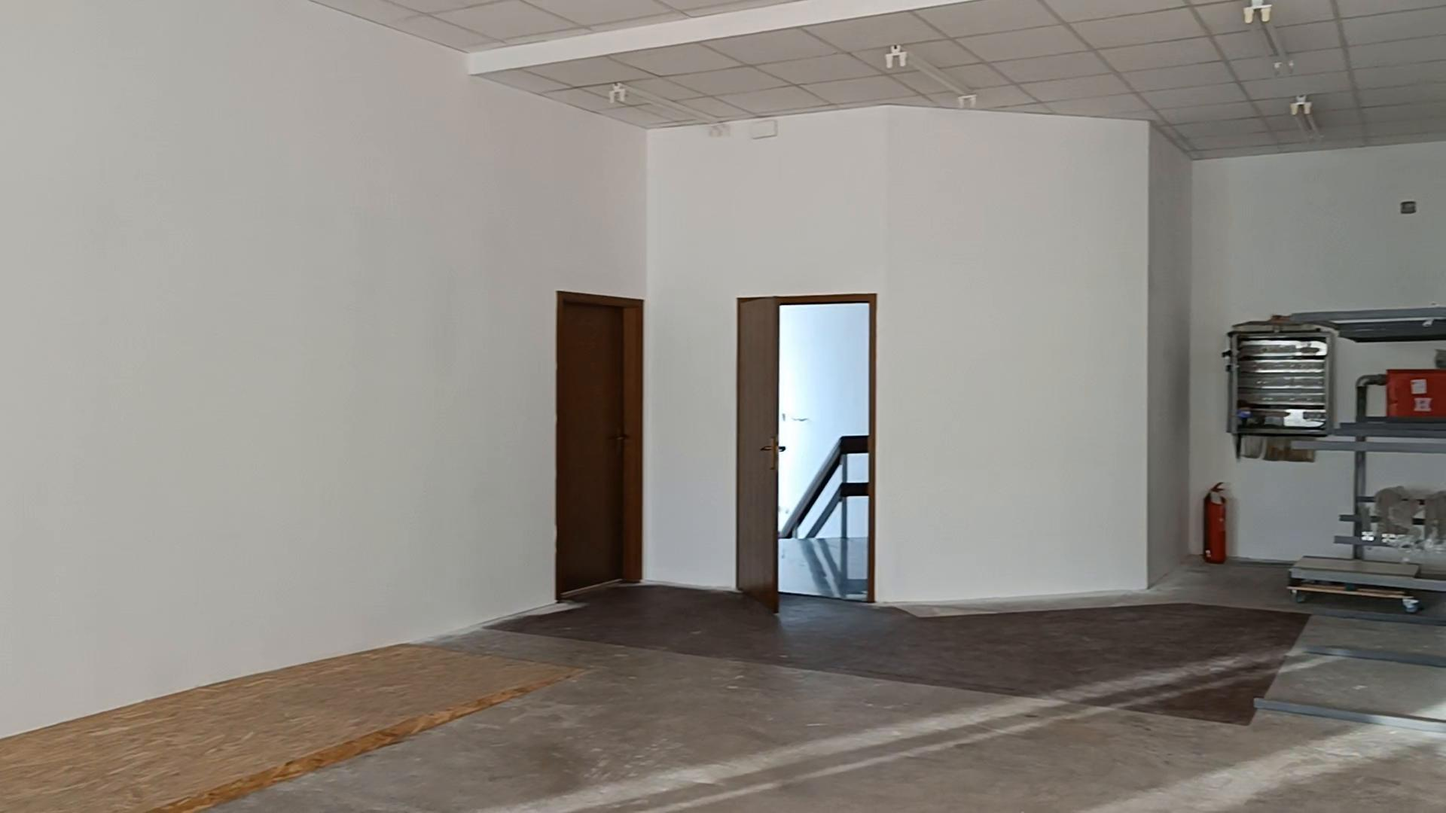ceiling: (477, 0, 1445, 158), (315, 0, 792, 53)
floor: (0, 564, 1445, 812)
wall: (5, 6, 1445, 741)
